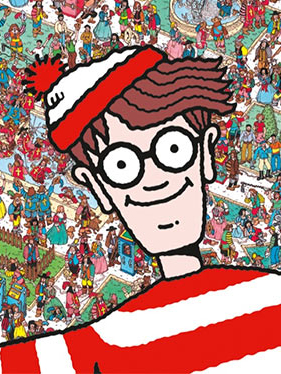waldo: (28, 47, 229, 254)
